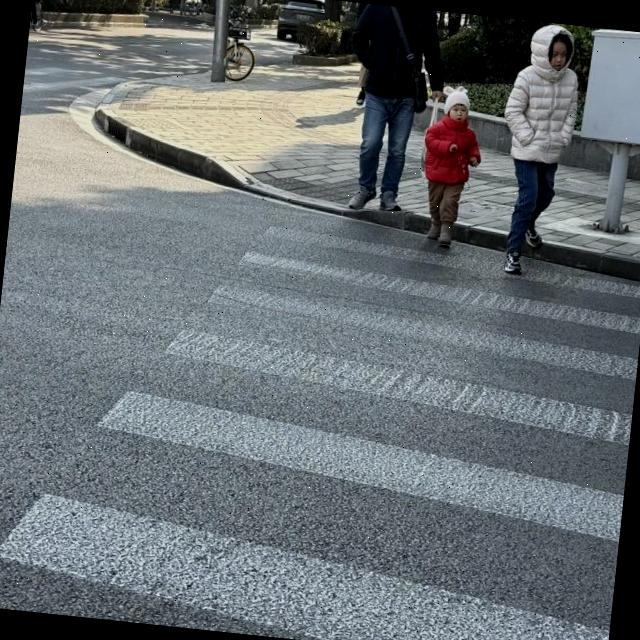curb: (94, 110, 237, 187), (291, 199, 428, 233), (521, 242, 640, 281), (42, 11, 147, 26), (453, 223, 503, 249), (292, 50, 355, 66)
